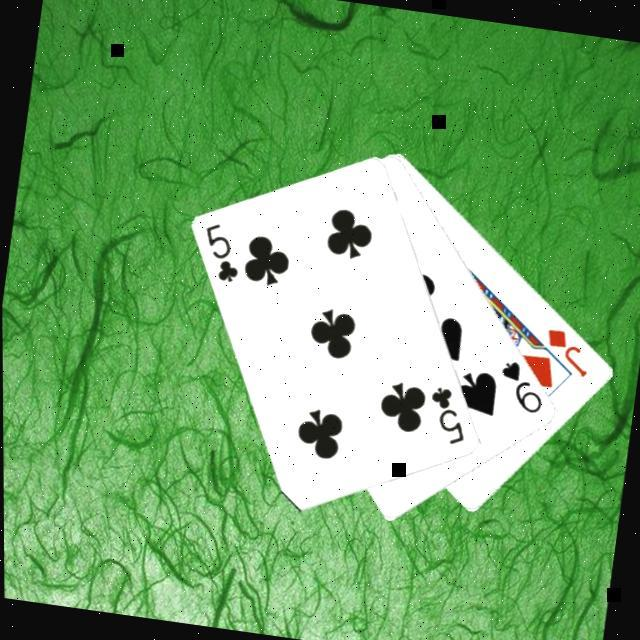5C: (422, 383, 475, 451), (196, 220, 248, 289)
9S: (494, 357, 551, 419)
JD: (539, 324, 597, 382)
